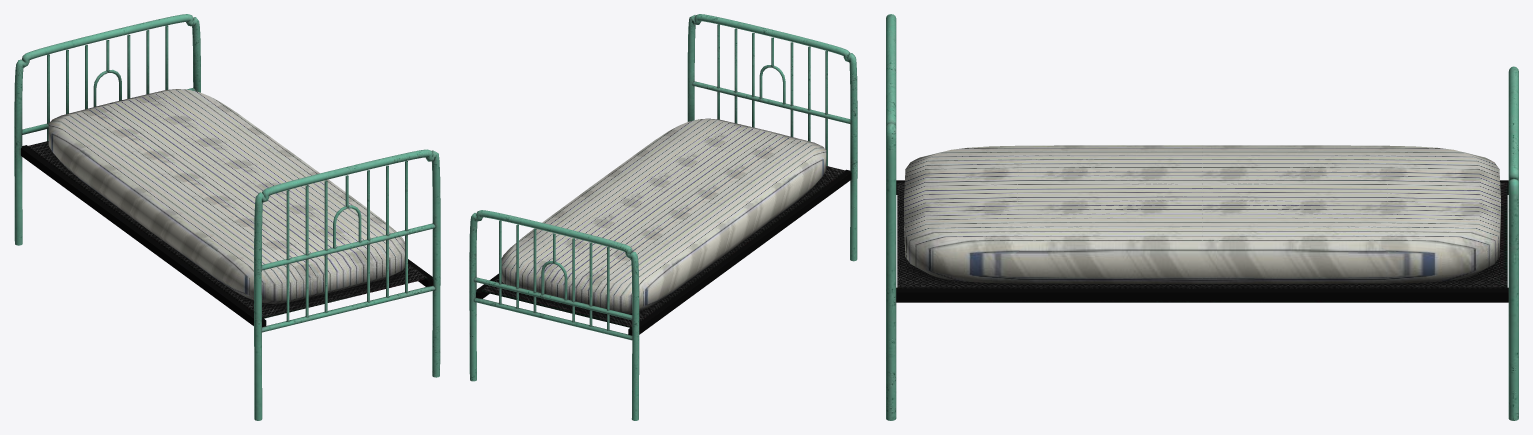
The model's file is bed_metal_web.glb.
3 views of the same model, side by side, from view 1: azimuth 30°, elevation 25°; view 2: azimuth 150°, elevation 25°; view 3: azimuth 270°, elevation 25° (orthographic). The views are drawn at different scales.
Visible parts, largest first — view 1: BedMetal_Mesh; view 2: BedMetal_Mesh; view 3: BedMetal_Mesh.
Part boxes in pixels (x1,y1,x2,y2): BedMetal_Mesh: [14, 14, 440, 420]; BedMetal_Mesh: [469, 14, 857, 420]; BedMetal_Mesh: [886, 14, 1518, 420].
Size of the model in its own units: 0.8764 by 1.04 by 1.99.
1 material, 1 textured.
